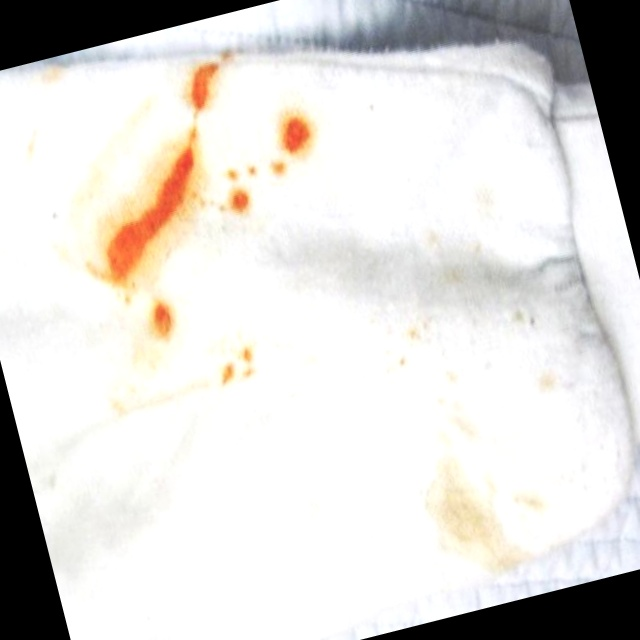kimchi: (31, 34, 342, 305), (334, 169, 561, 405), (388, 390, 578, 590), (203, 329, 276, 398), (137, 289, 194, 358)
